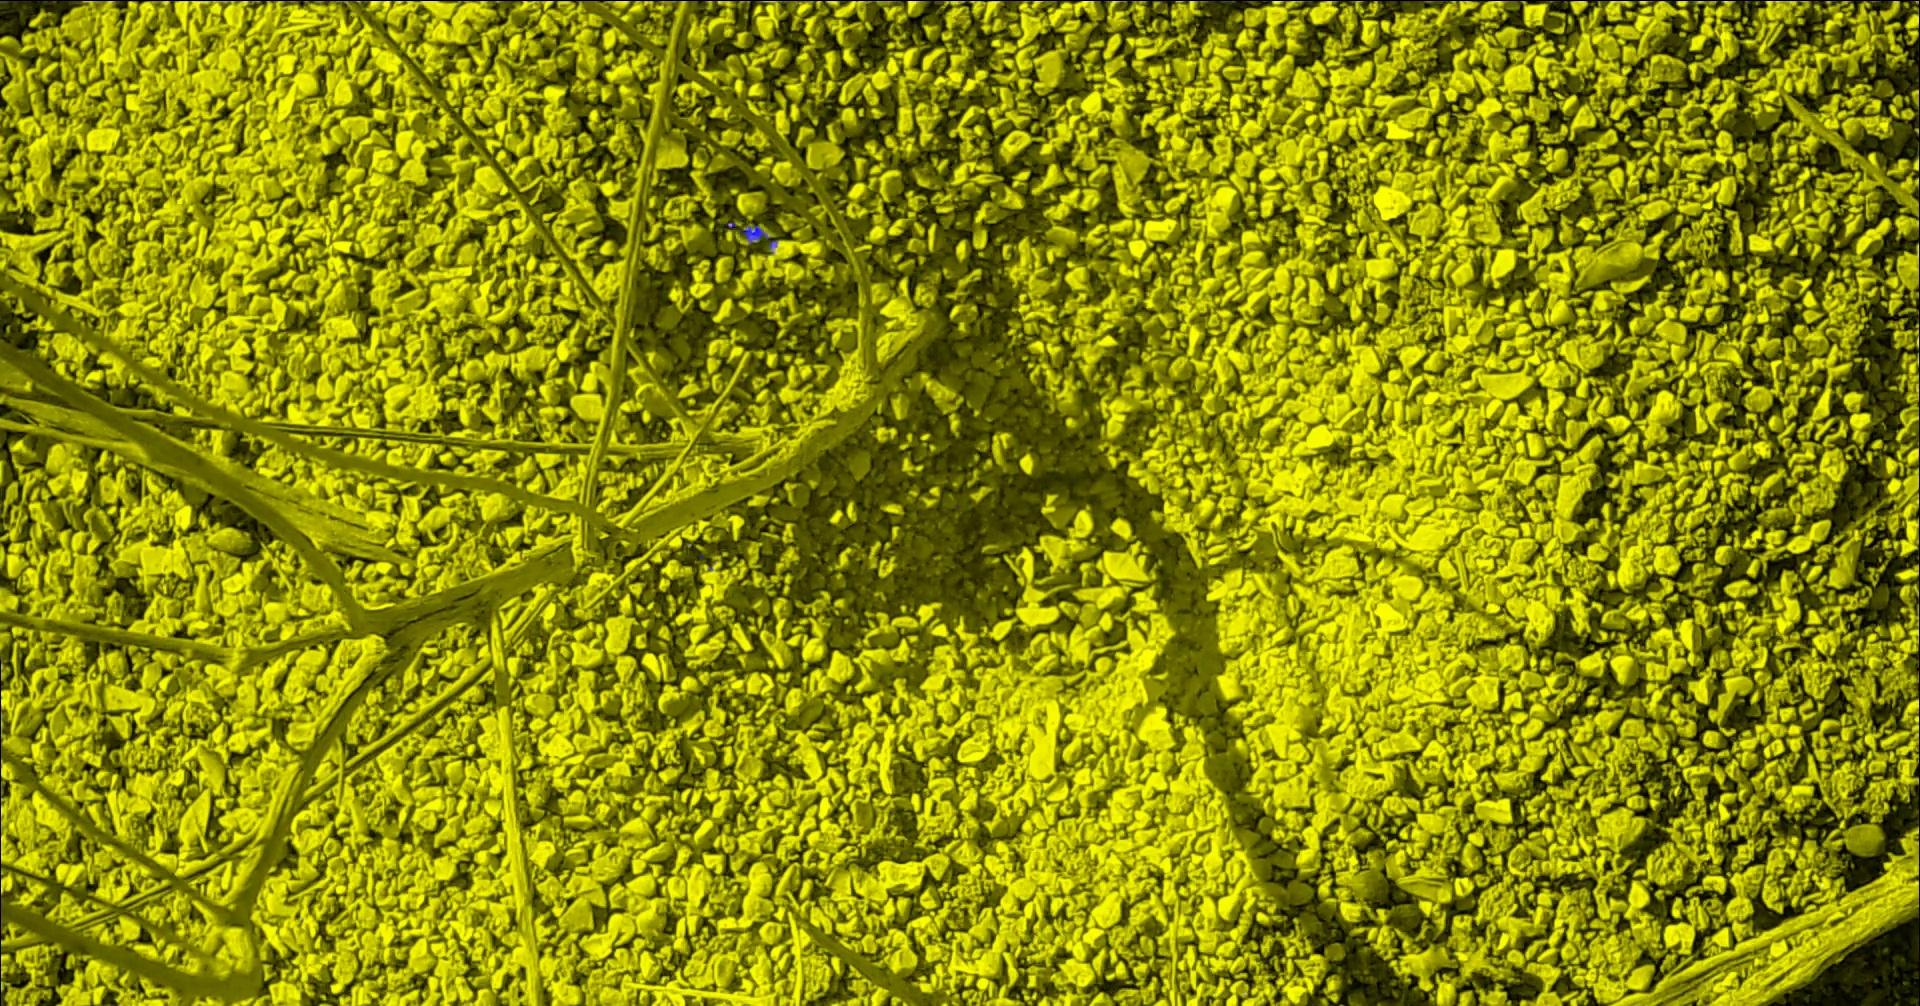ant: (742, 225, 778, 251)
